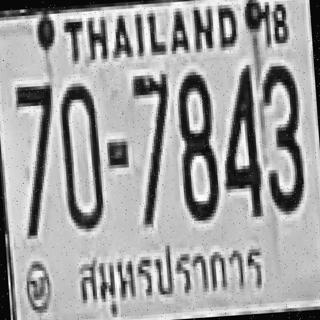N00: (58, 80, 104, 228)
N03: (258, 61, 304, 212)
N04: (216, 61, 263, 215)
N07: (12, 82, 60, 236), (130, 70, 176, 224), (132, 70, 174, 182), (13, 82, 57, 188)
N08: (173, 68, 218, 218)
P57: (66, 232, 280, 320)
